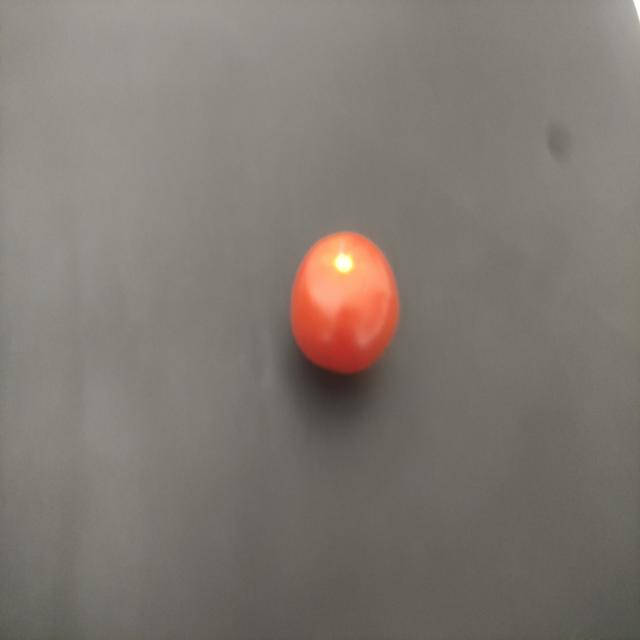kirmizi: (284, 227, 408, 371)
